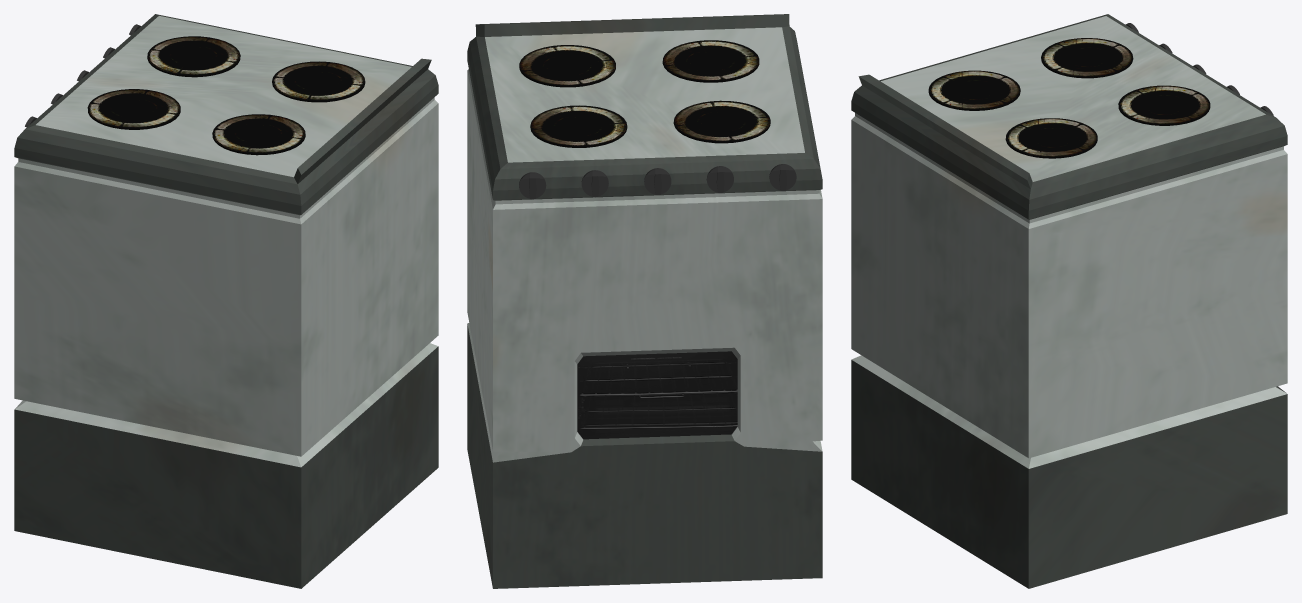
File: fogao.fbx
3 renders of one model, left to right at view 1: azimuth 30°, elevation 25°; view 2: azimuth 150°, elevation 25°; view 3: azimuth 270°, elevation 25°, orthographic. The views are drawn at different scales.
Visible parts, largest first — view 1: l, l1; view 2: l, l1, l2; view 3: l, l1.
Boxes of the visible parts, <box> form: l: <box>14,14,438,588</box>; l1: <box>87,36,365,155</box>; l: <box>467,14,822,588</box>; l1: <box>519,40,770,147</box>; l2: <box>519,164,796,199</box>; l: <box>851,14,1287,588</box>; l1: <box>928,38,1210,158</box>.
Size of the model in its own units: 3.95 by 4.07 by 3.95.
6 materials, 5 textured.
